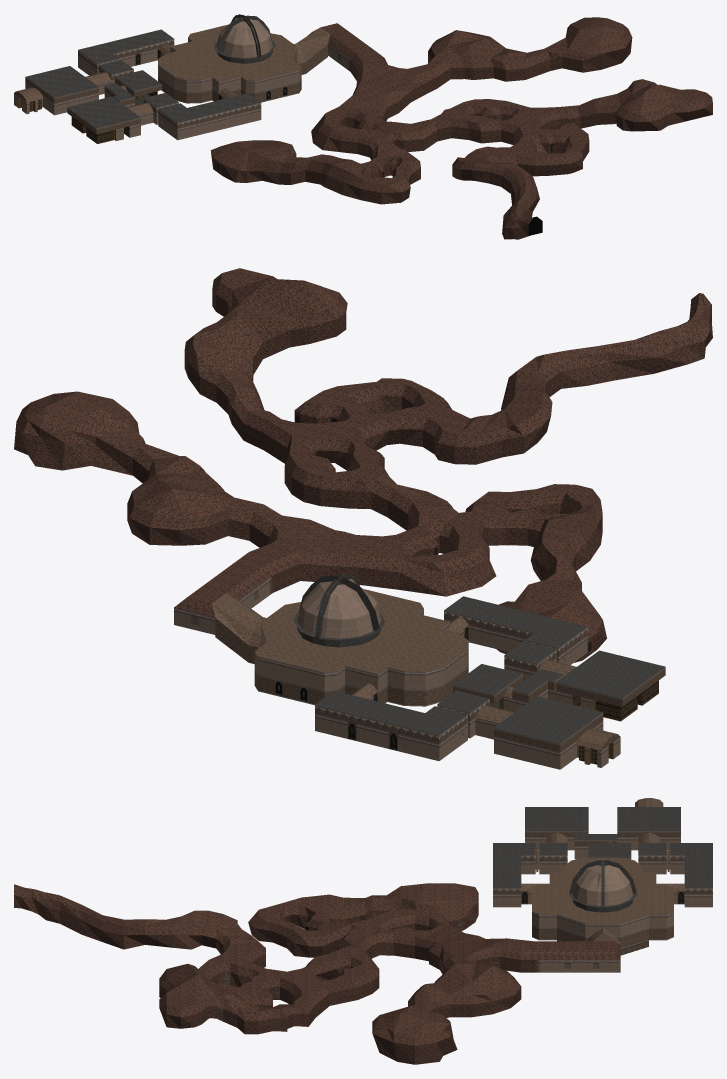
File: original moon temple.FBX
The picture shows the model from 3 angles, top to bottom: view 1: azimuth 30°, elevation 25°; view 2: azimuth 150°, elevation 25°; view 3: azimuth 270°, elevation 25°; orthographic projection. The views are drawn at different scales.
Parts seen in each view (by area): view 1: Room3, Room2, Room13, Room7, Room4, Room8, Room6, Room9, Room25, Room19, Room23, Room5 (+14 smaller); view 2: Room3, Room2, Room13, Room7, Room5, Room8, Room25, Room6, Room1, Room4, Room12, Room11 (+14 smaller); view 3: Room2, Room3, Room13, Room7, Room4, Room8, Room5, Room6, Room1, Room12, Room9, Room11 (+15 smaller).
Boxes of the visible parts, left/top/right/bottom form: Room3: left=311, top=49, right=451, bottom=159; Room2: left=439, top=99, right=589, bottom=176; Room13: left=158, top=33, right=297, bottom=103; Room7: left=427, top=30, right=550, bottom=88; Room4: left=324, top=140, right=420, bottom=204; Room8: left=544, top=17, right=632, bottom=72; Room6: left=616, top=84, right=712, bottom=131; Room9: left=210, top=140, right=296, bottom=184; Room25: left=14, top=66, right=98, bottom=115; Room19: left=177, top=93, right=261, bottom=139; Room23: left=67, top=96, right=140, bottom=143; Room5: left=544, top=79, right=657, bottom=130; Room3: left=240, top=473, right=496, bottom=596; Room2: left=275, top=378, right=477, bottom=509; Room13: left=261, top=602, right=468, bottom=706; Room7: left=127, top=443, right=263, bottom=545; Room5: left=184, top=305, right=295, bottom=457; Room8: left=14, top=391, right=145, bottom=475; Room25: left=494, top=696, right=620, bottom=769; Room6: left=212, top=268, right=347, bottom=347; Room1: left=454, top=354, right=560, bottom=464; Room4: left=465, top=484, right=602, bottom=560; Room12: left=174, top=559, right=272, bottom=663; Room11: left=545, top=324, right=704, bottom=388; Room2: left=199, top=938, right=379, bottom=1011; Room3: left=337, top=909, right=535, bottom=974; Room13: left=549, top=857, right=656, bottom=955; Room7: left=408, top=959, right=521, bottom=1017; Room4: left=248, top=894, right=350, bottom=957; Room8: left=372, top=1005, right=457, bottom=1064; Room5: left=216, top=985, right=322, bottom=1034; Room6: left=159, top=963, right=216, bottom=1028; Room1: left=145, top=910, right=258, bottom=953; Room12: left=535, top=928, right=620, bottom=972; Room9: left=386, top=883, right=478, bottom=930; Room11: left=46, top=892, right=145, bottom=949.
Size of the model in its own units: 1152000 by 1260800 by 198400.
